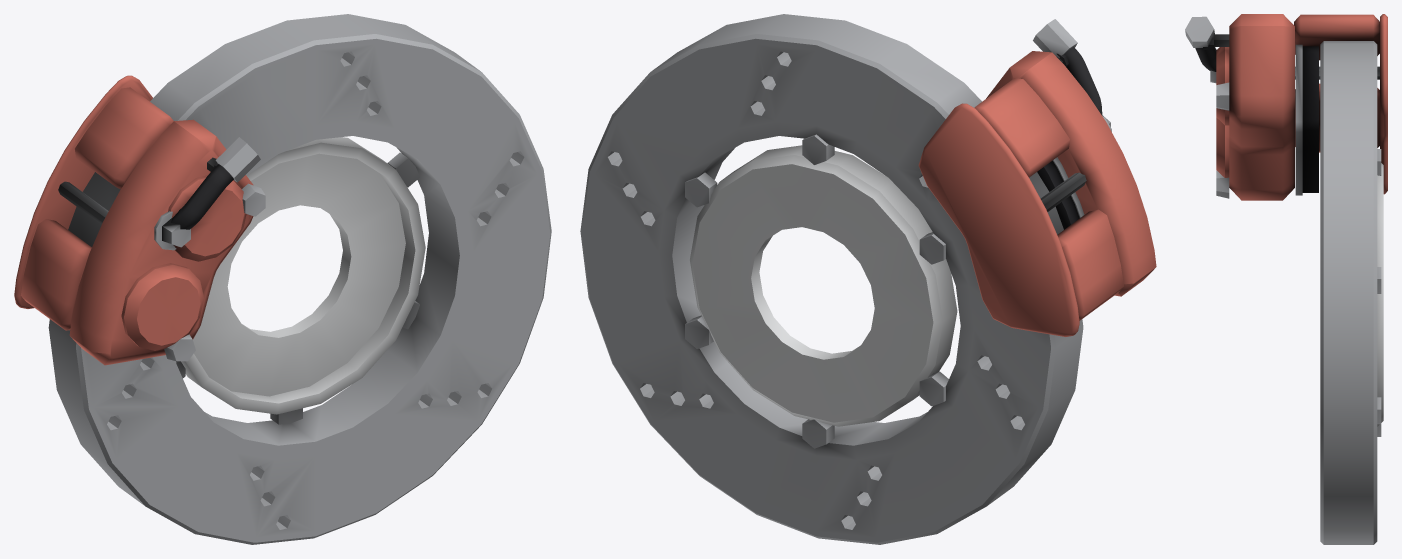
File: brakes_sport.glb
3 renders of one model, left to right at view 1: azimuth 30°, elevation 25°; view 2: azimuth 150°, elevation 25°; view 3: azimuth 270°, elevation 25°, orthographic. The views are drawn at different scales.
Parts seen in each view (by area): view 1: PART; view 2: PART; view 3: PART.
Boxes of the visible parts, x1=… form: PART: x1=14, y1=14, x2=551, y2=544; PART: x1=580, y1=14, x2=1156, y2=544; PART: x1=1185, y1=14, x2=1387, y2=544.
Bounding box in the file's own units: 0.2448 × 0.231 × 0.0927.
